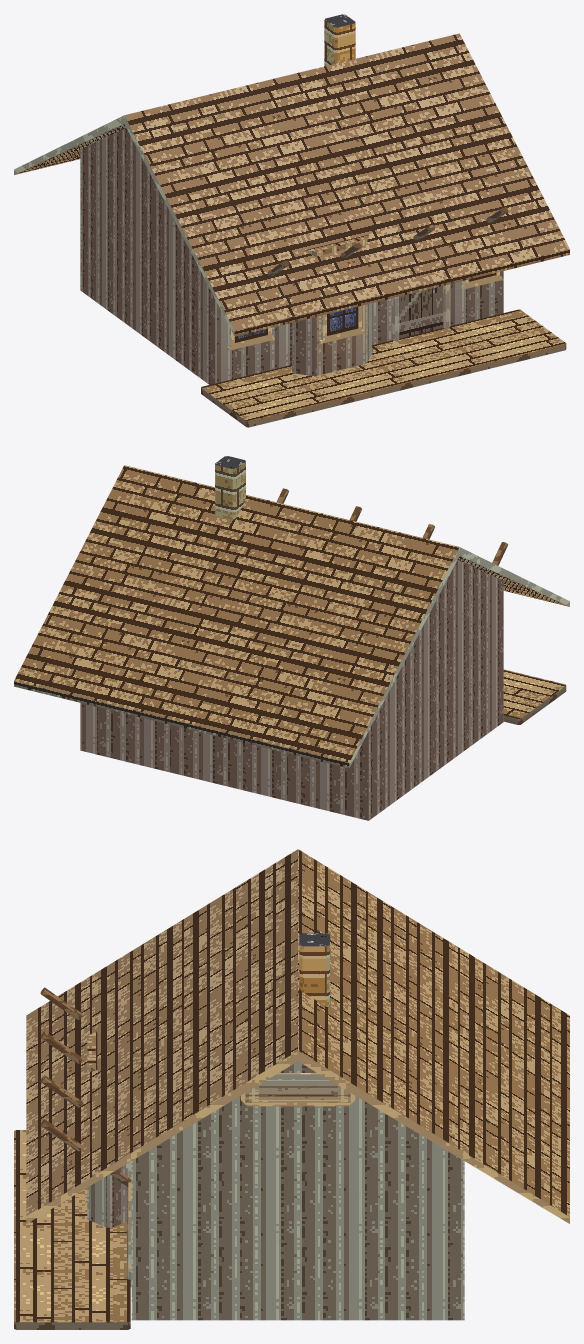
The model's file is wrail.station__small.glb.
The picture shows the model from 3 angles, top to bottom: view 1: azimuth 30°, elevation 25°; view 2: azimuth 150°, elevation 25°; view 3: azimuth 270°, elevation 25°; orthographic projection. The views are drawn at different scales.
Parts seen in each view (by area): view 1: kit_roof, kit_body, kit_deck, kit_bay, kit_card_panes, kit_chimney, kit_windows, kit_trim, kit_braces; view 2: kit_roof, kit_body, kit_deck, kit_chimney, kit_braces; view 3: kit_roof, kit_body, kit_deck, kit_bay, kit_card_panes, kit_chimney, kit_braces, kit_trim.
Part boxes in pixels (x1=…): kit_roof: x1=14, y1=33, x2=569, y2=336; kit_body: x1=80, y1=128, x2=503, y2=384; kit_deck: x1=201, y1=309, x2=566, y2=427; kit_bay: x1=292, y1=234, x2=372, y2=375; kit_card_panes: x1=235, y1=273, x2=496, y2=342; kit_chimney: x1=324, y1=14, x2=355, y2=66; kit_windows: x1=227, y1=272, x2=502, y2=350; kit_trim: x1=392, y1=284, x2=449, y2=340; kit_braces: x1=267, y1=207, x2=508, y2=276; kit_roof: x1=14, y1=465, x2=569, y2=768; kit_body: x1=80, y1=560, x2=503, y2=820; kit_deck: x1=503, y1=669, x2=566, y2=724; kit_chimney: x1=215, y1=456, x2=245, y2=519; kit_braces: x1=277, y1=488, x2=507, y2=565; kit_roof: x1=26, y1=849, x2=569, y2=1223; kit_body: x1=131, y1=1061, x2=464, y2=1320; kit_deck: x1=14, y1=1130, x2=130, y2=1329; kit_bay: x1=87, y1=1031, x2=127, y2=1227; kit_card_panes: x1=245, y1=1078, x2=350, y2=1102; kit_chimney: x1=299, y1=933, x2=329, y2=1007; kit_braces: x1=40, y1=987, x2=131, y2=1186; kit_trim: x1=126, y1=1073, x2=355, y2=1287.
Size of the model in its own units: 8.6 by 6.5 by 10.02.
10 materials, 10 textured.
